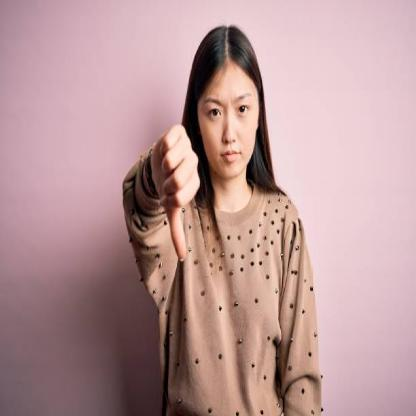thumb_up: (146, 119, 202, 268)
